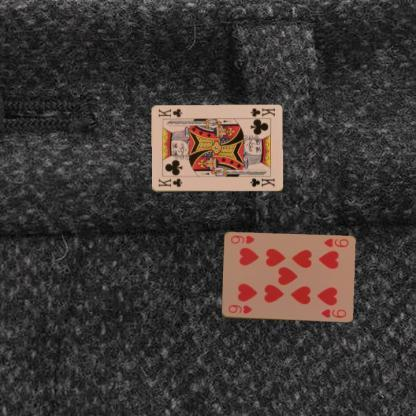9h: (225, 302, 252, 315), (321, 236, 350, 248)
Kc: (156, 176, 183, 188), (248, 106, 275, 118)
